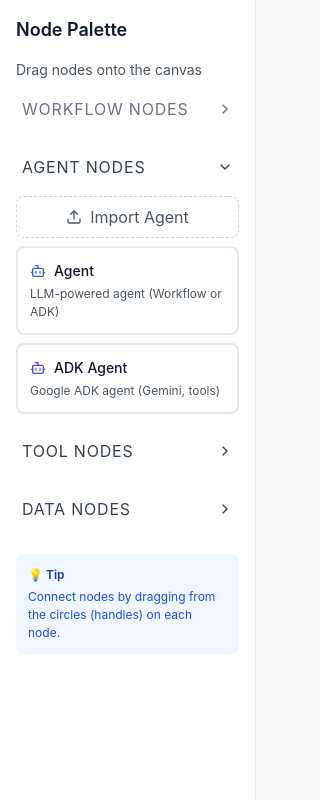
Scenario: NodePanel › edge cases › should handle all categories being collapsed
Click the button "Agent Nodes".
click(128, 167)  # box [16,154,239,180]
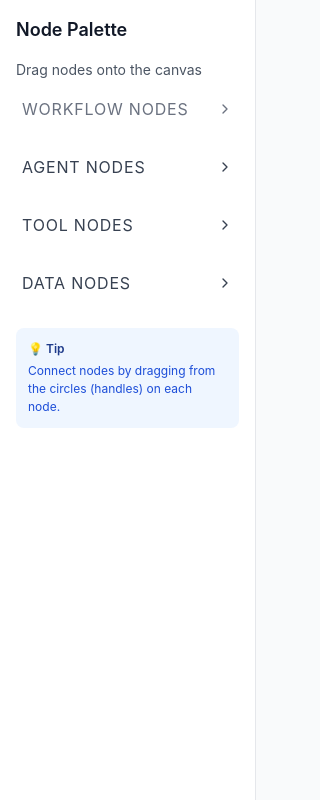
Result: the text "ADK Agent" is gone
